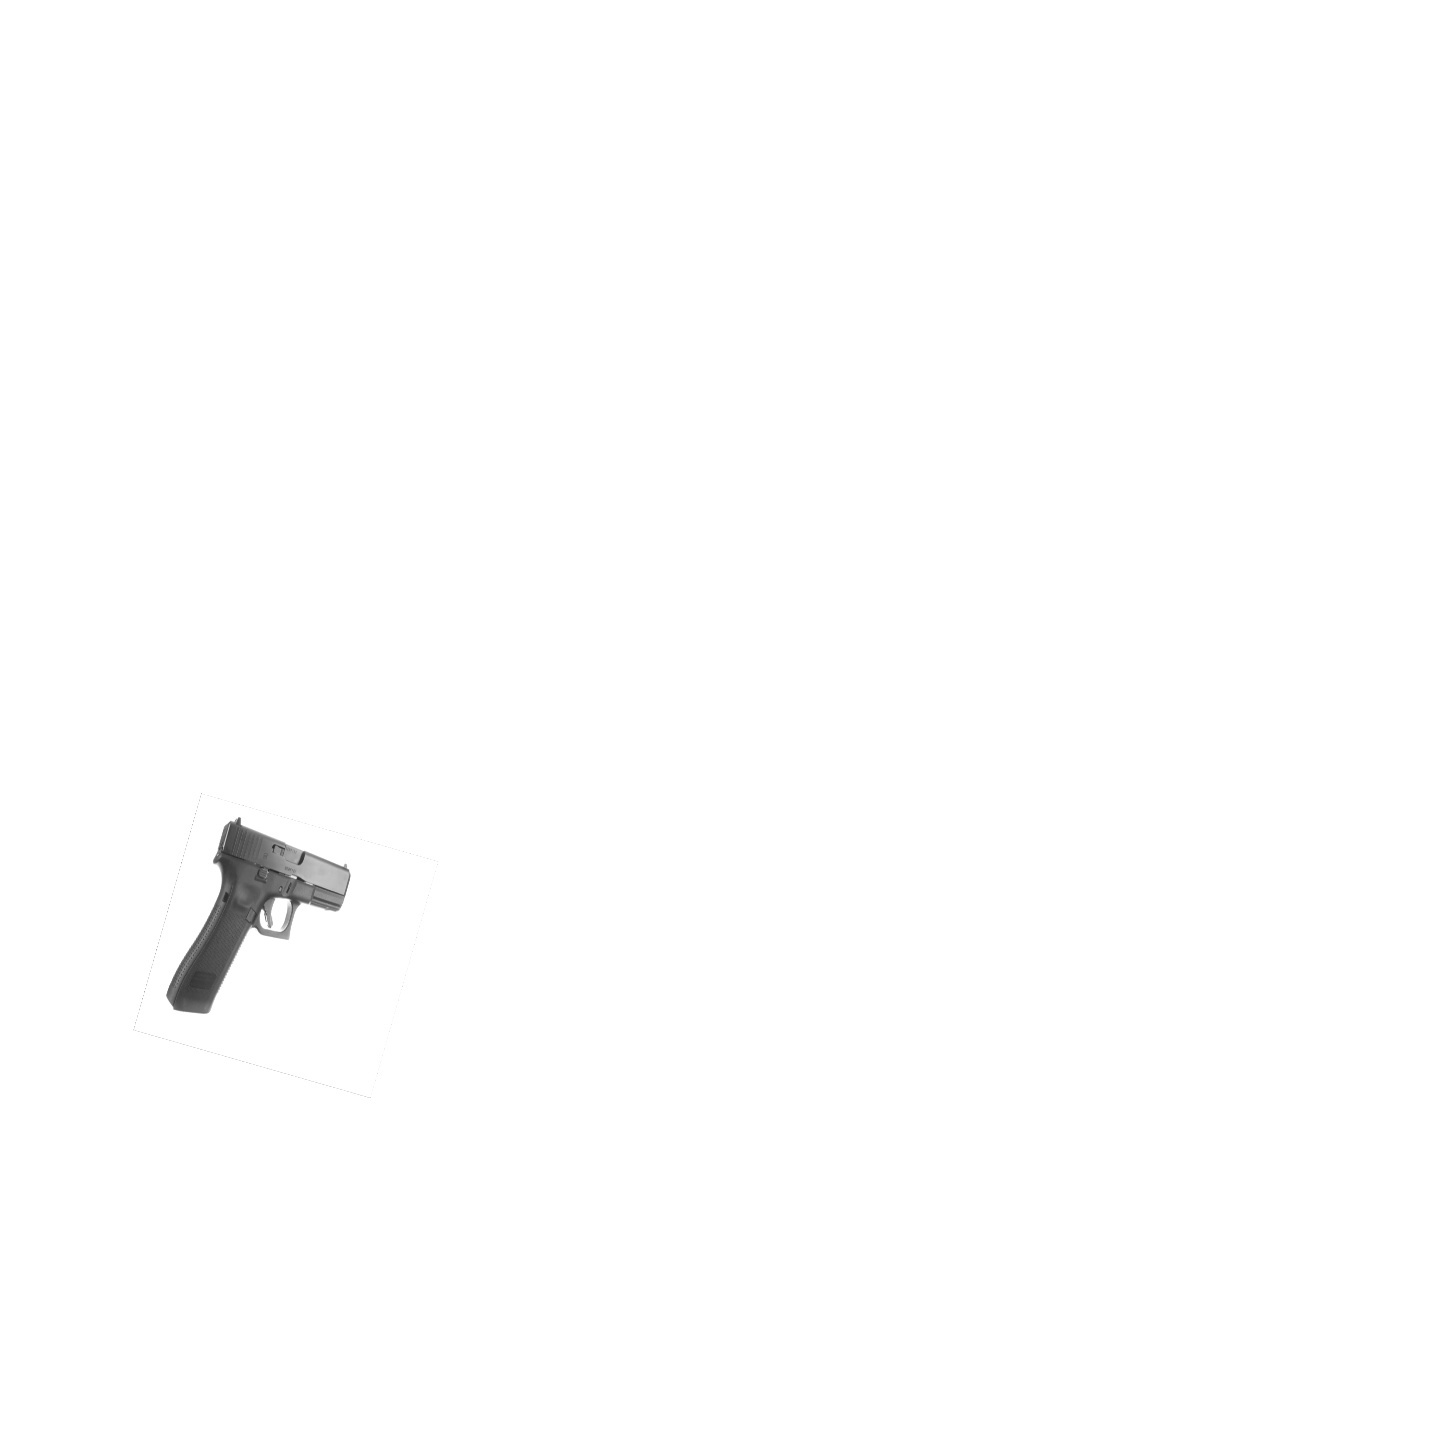gun: (167, 818, 353, 1011)
